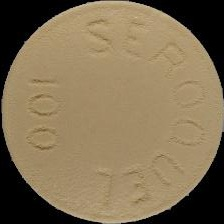0310-0271: (0, 0, 224, 224)
